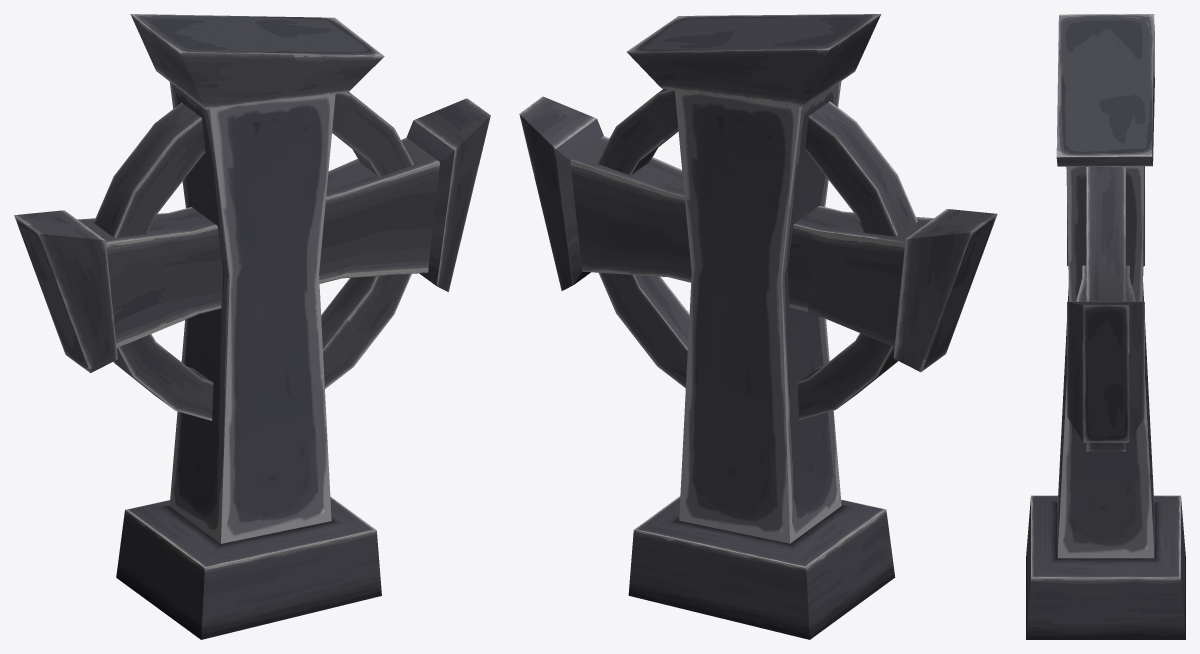
Rendered from SM_PROP_gravestone_dungeon_03.fbx.
The picture shows the model from 3 angles, left to right: view 1: azimuth 30°, elevation 25°; view 2: azimuth 150°, elevation 25°; view 3: azimuth 270°, elevation 25°; orthographic projection. The views are drawn at different scales.
Parts seen in each view (by area): view 1: SM_PROP_gravestone_dungeon_03; view 2: SM_PROP_gravestone_dungeon_03; view 3: SM_PROP_gravestone_dungeon_03.
Part boxes in pixels (box(x1,y1,x2,y2)): SM_PROP_gravestone_dungeon_03: box(14, 14, 490, 639); SM_PROP_gravestone_dungeon_03: box(519, 14, 997, 639); SM_PROP_gravestone_dungeon_03: box(1026, 14, 1185, 639).
Size of the model in its own units: 86.87 by 106 by 28.29.
